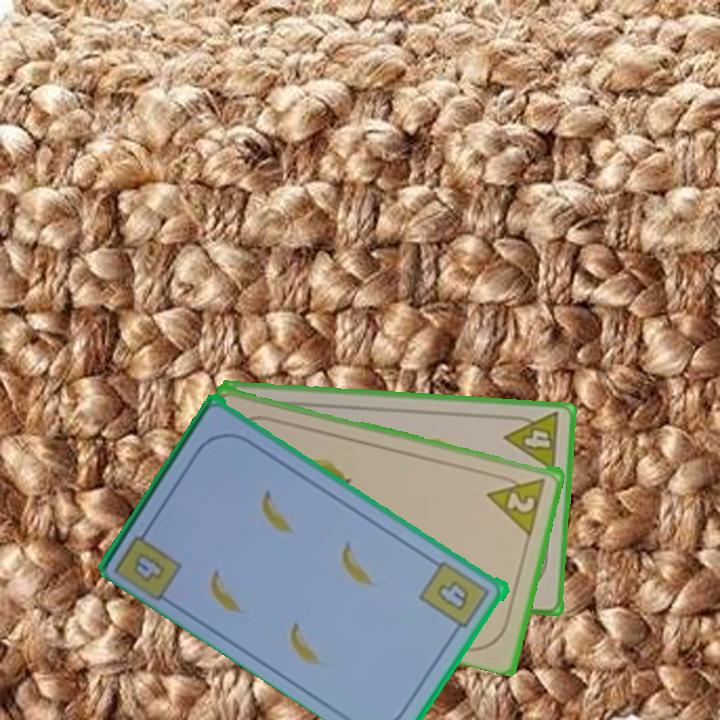2p: (484, 471, 549, 536)
4b: (112, 519, 187, 602), (417, 557, 494, 637)
4p: (501, 409, 563, 474)
